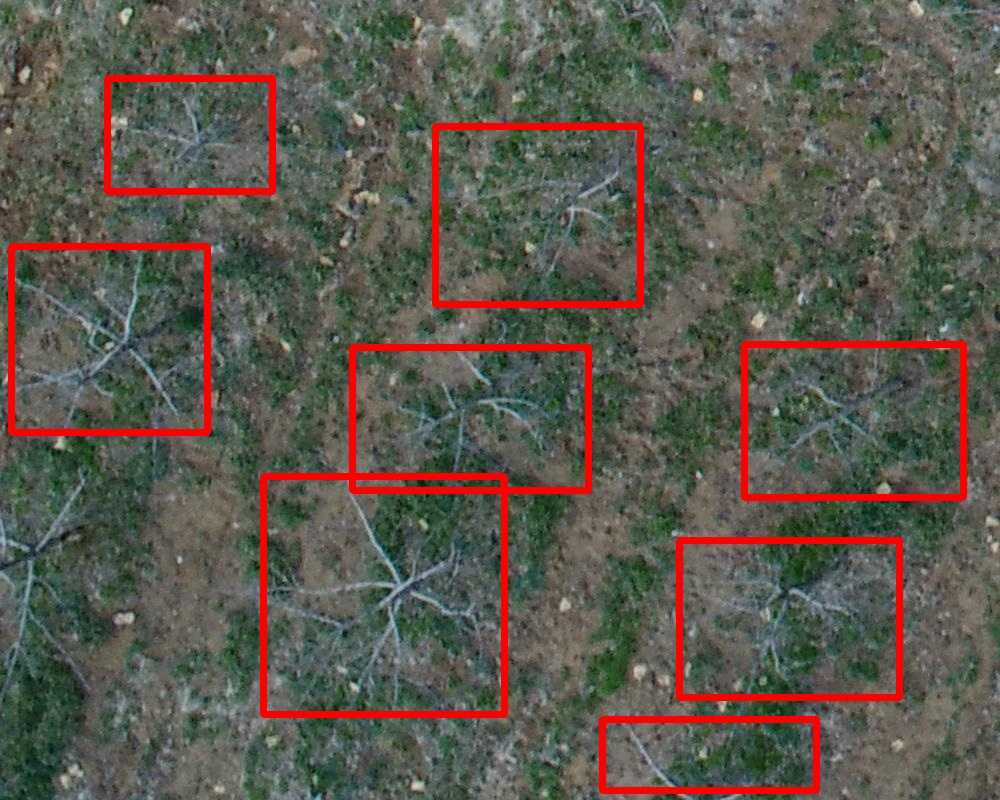apple: (263, 476, 504, 714), (435, 126, 640, 304), (11, 246, 207, 432), (679, 540, 899, 697), (352, 347, 588, 490), (744, 344, 963, 497), (107, 78, 272, 191), (602, 719, 816, 790)
